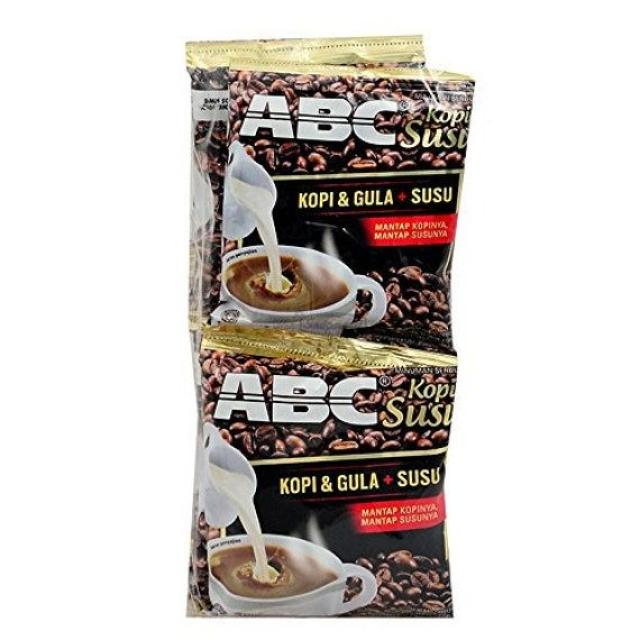KemasanPlastik: (185, 40, 474, 618)
